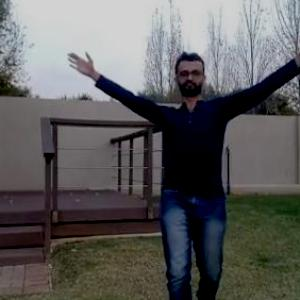takeoff: (54, 40, 300, 299)
